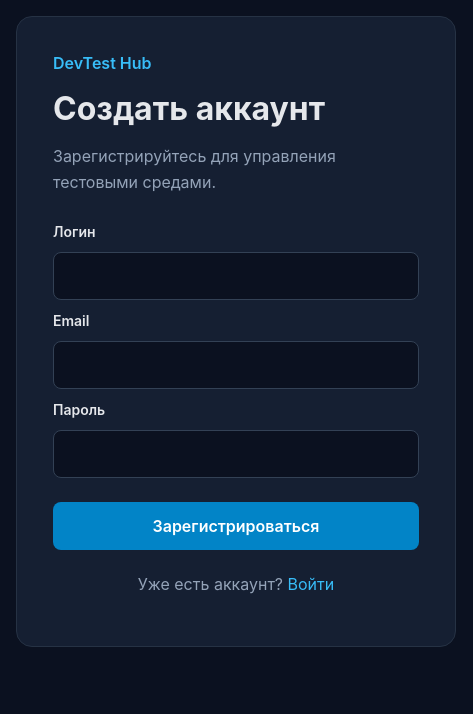
it: RegisterPage › успешно регистрирует пользователя
Type "newdeveloper" into the field labelled "Логин" at (236, 276), box [53, 252, 419, 300]
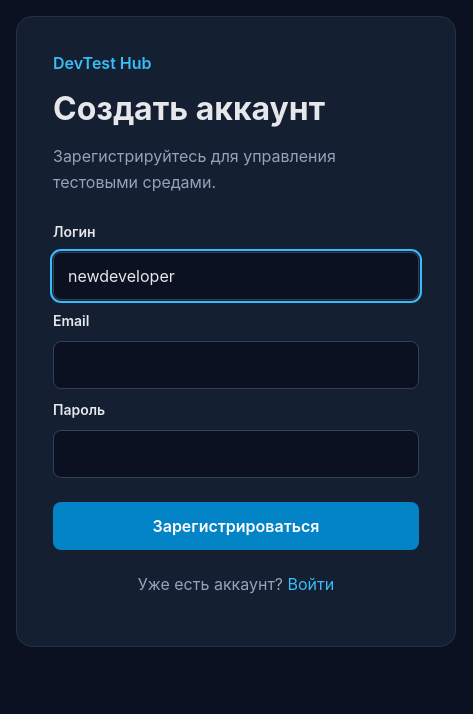
Type "newdeveloper@example.com" into the field labelled "Email" at (236, 365), box [53, 341, 419, 389]
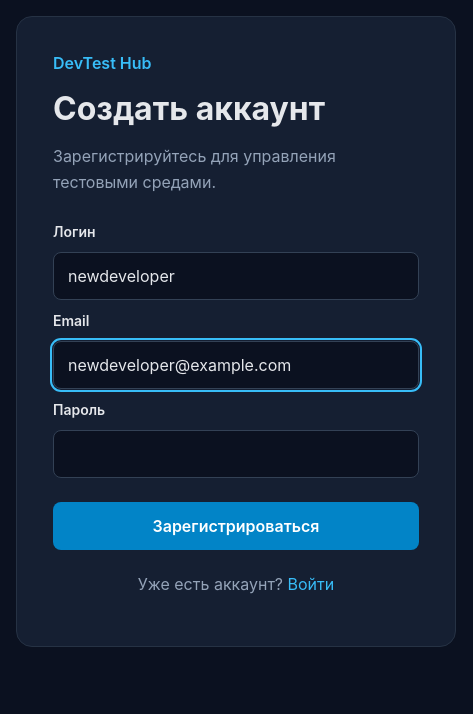
Type "Test-Password-2026!" into the password field labelled "Пароль" at (236, 454), box [53, 430, 419, 478]
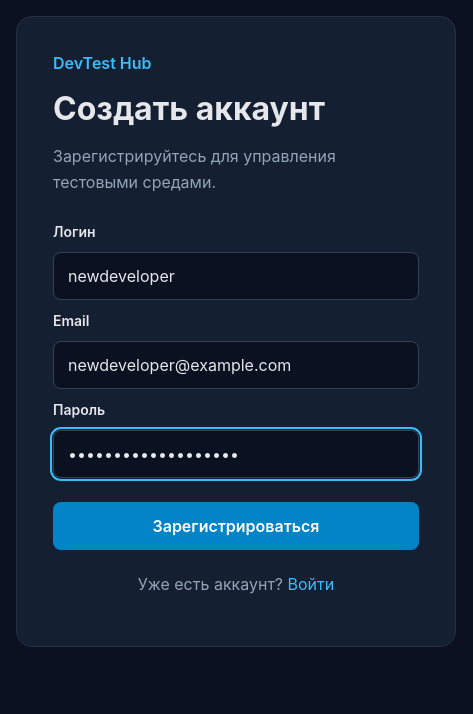
Click the button "Зарегистрироваться" at (236, 526), box [53, 502, 419, 550]
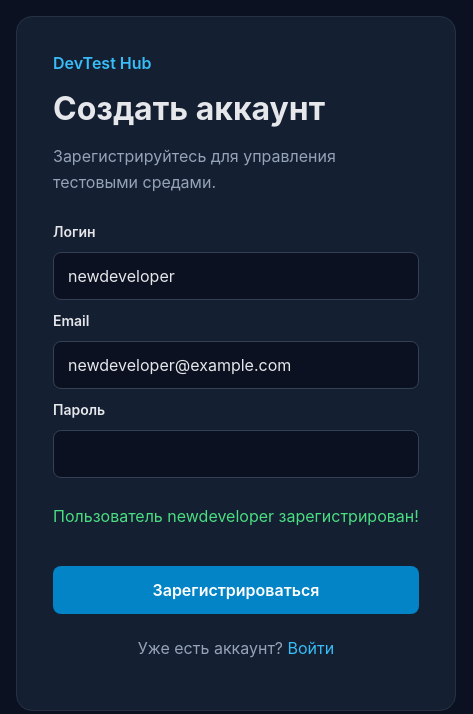
Result: the message reads "Пользователь newdeveloper зарегистрирован!" at [53, 506, 419, 526]
Result: the password field labelled "Пароль" is empty at [53, 430, 419, 478]
